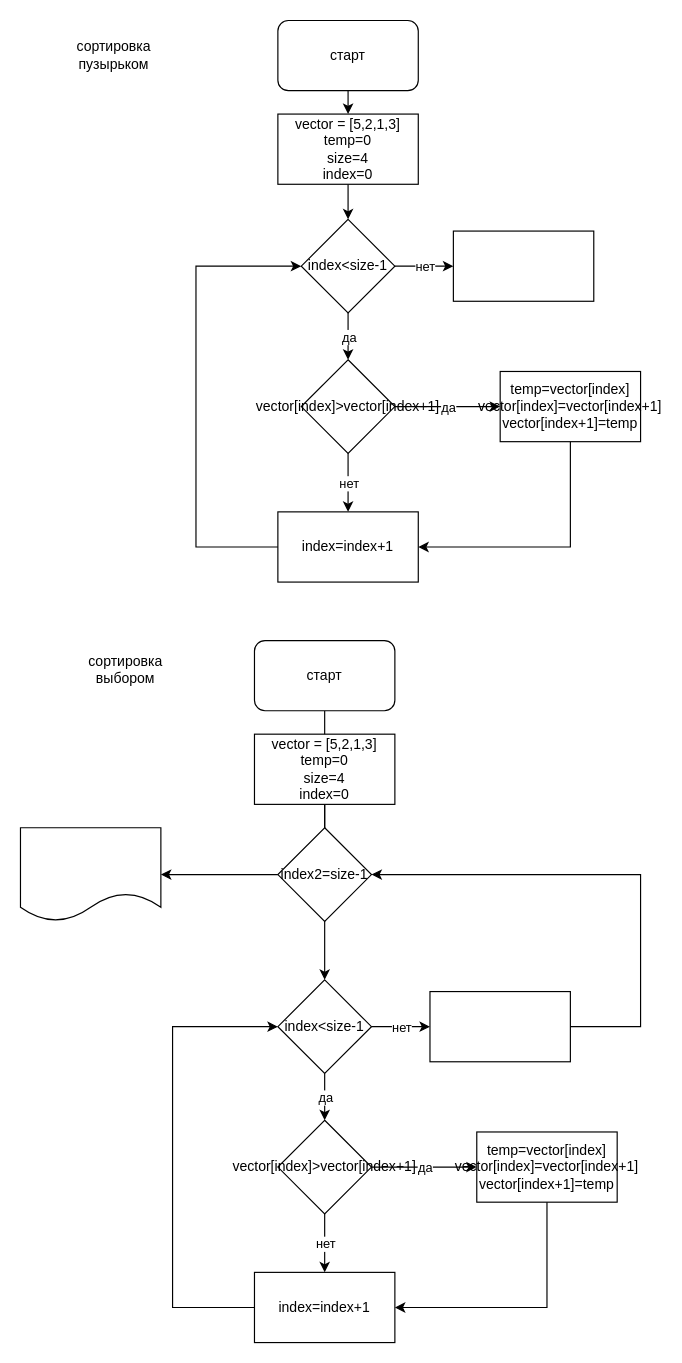
Some shapes in this 682 by 1363 pixel diagram are drawn without their labels. Each missing label, with the centre of its shape:
index2=index2+1 index2=0: point (499, 1026)
printVector (1,2,3,5): point (90, 874)
printVector (2,1,3,5): point (523, 265)
